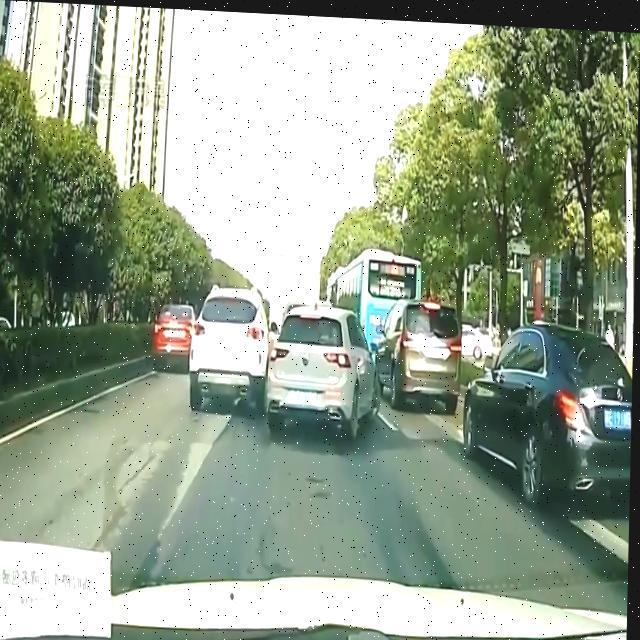multiple_accident: (177, 238, 410, 457)
